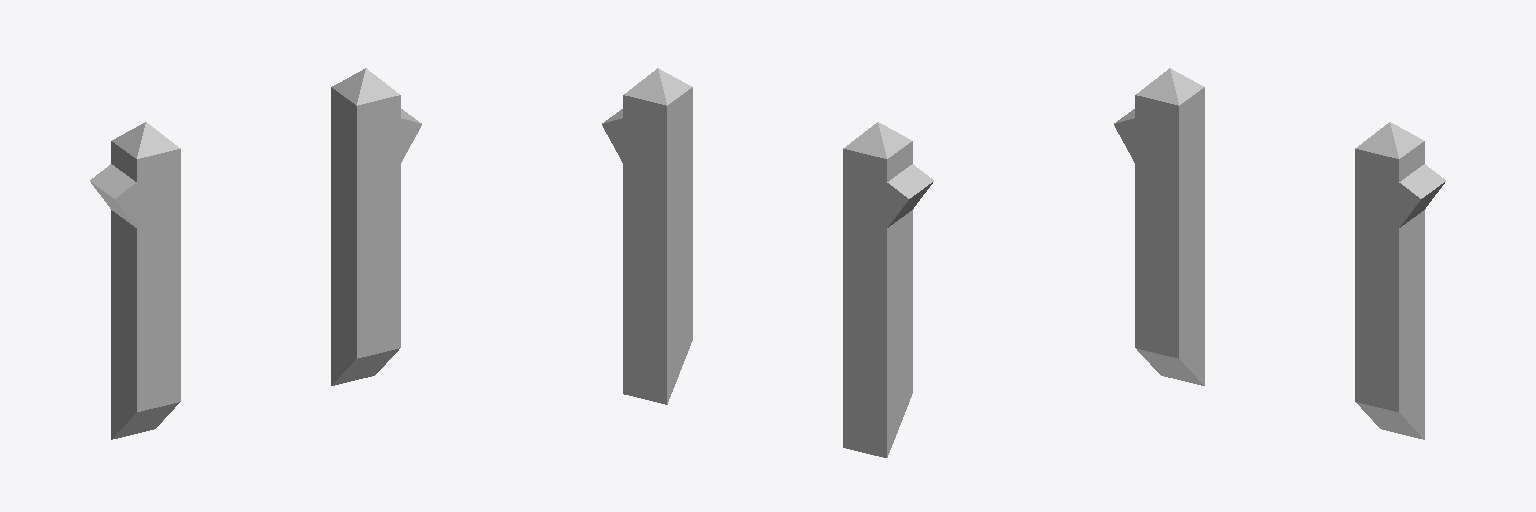
Rendered from actuator_water_steamvents.obj.
The picture shows the model from 3 angles: view 1: azimuth 30°, elevation 25°; view 2: azimuth 150°, elevation 25°; view 3: azimuth 330°, elevation 25°; orthographic projection.
Visible parts, largest first — view 1: DELUGE_PURIFIER_STEAMVENTS_Cube.032; view 2: DELUGE_PURIFIER_STEAMVENTS_Cube.032; view 3: DELUGE_PURIFIER_STEAMVENTS_Cube.032.
Boxes of the visible parts, <box> form: DELUGE_PURIFIER_STEAMVENTS_Cube.032: <box>90,68,421,439</box>; DELUGE_PURIFIER_STEAMVENTS_Cube.032: <box>602,68,933,457</box>; DELUGE_PURIFIER_STEAMVENTS_Cube.032: <box>1114,68,1445,439</box>.
Bounding box in the file's own units: 0.875 × 0.875 × 0.125.